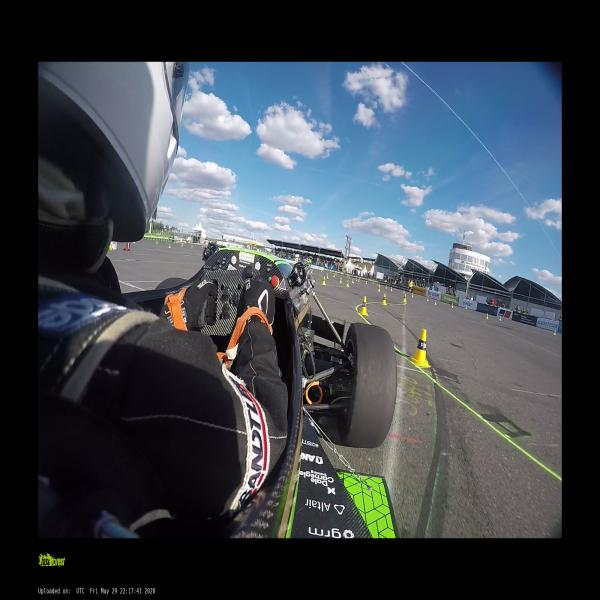yellow_cone: (410, 329, 430, 367), (360, 296, 368, 316), (381, 294, 387, 304), (322, 276, 326, 286), (107, 243, 112, 250), (403, 294, 406, 302), (377, 285, 380, 292), (486, 314, 489, 320), (346, 280, 349, 286), (340, 276, 342, 284), (451, 303, 454, 308), (554, 330, 556, 336), (435, 300, 437, 306), (326, 273, 328, 279), (168, 244, 171, 248), (377, 282, 380, 286), (333, 272, 335, 278), (412, 292, 414, 298), (427, 297, 429, 302), (465, 305, 467, 310), (499, 316, 501, 321), (390, 286, 392, 291), (191, 244, 193, 249), (352, 278, 354, 283), (365, 280, 367, 284), (403, 290, 405, 294), (385, 285, 387, 289), (372, 281, 374, 284), (376, 282, 378, 285)
